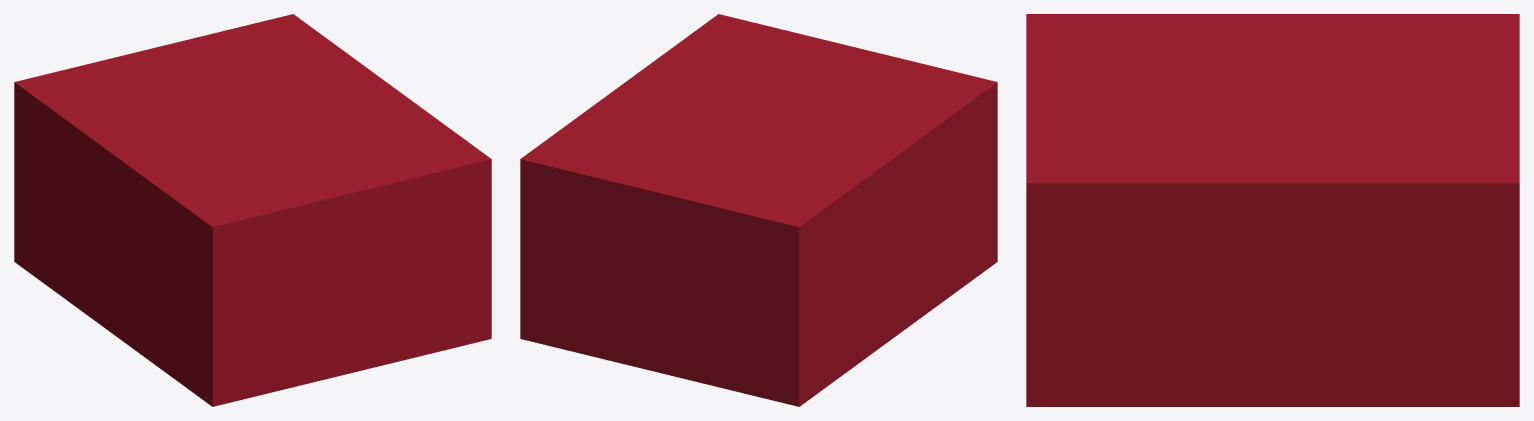
The model's file is rocket_pod_prop.glb.
3 views of the same model, side by side, from view 1: azimuth 30°, elevation 25°; view 2: azimuth 150°, elevation 25°; view 3: azimuth 270°, elevation 25° (orthographic). The views are drawn at different scales.
Parts seen in each view (by area): view 1: part_0; view 2: part_0; view 3: part_0.
Boxes of the visible parts, x1,y1,x2,y2 form: part_0: (14,14,491,406); part_0: (520,14,997,406); part_0: (1026,14,1519,406).
Size of the model in its own units: 0.65 by 0.4 by 0.8.
